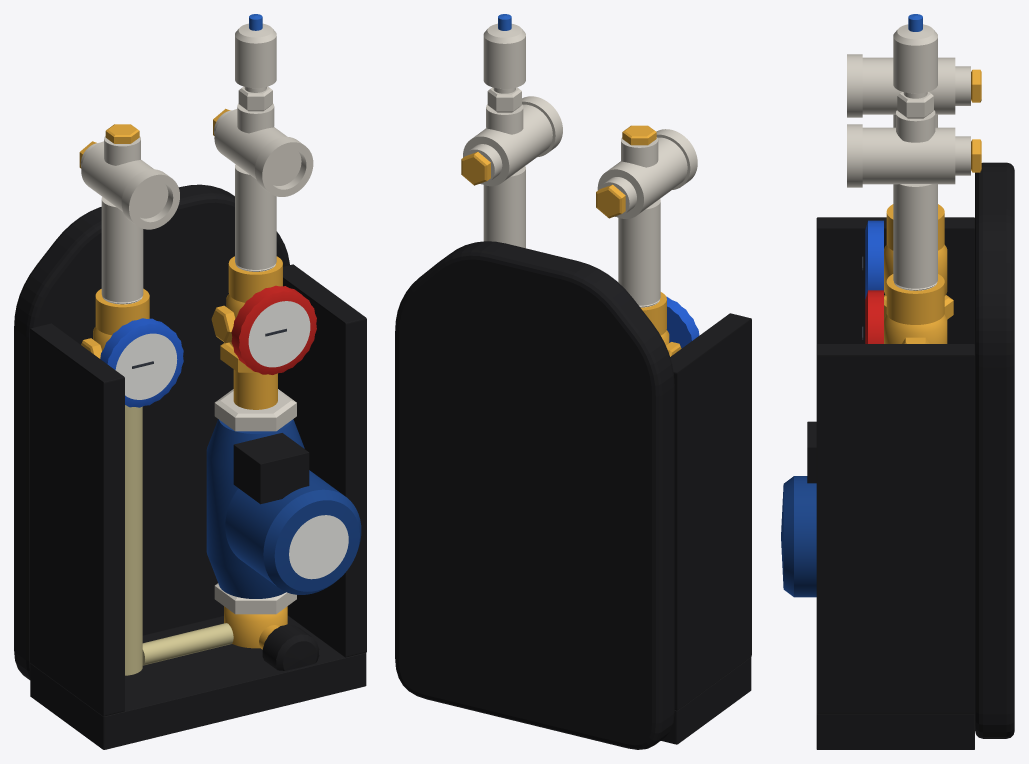
Rendered from pump_group_sdg0002_25.glb.
3 views of the same model, side by side, from view 1: azimuth 30°, elevation 25°; view 2: azimuth 150°, elevation 25°; view 3: azimuth 270°, elevation 25° (orthographic). The views are drawn at different scales.
Parts seen in each view (by area): view 1: кожух задняя, кожух щека, кожух щека.001, кожух дно, мотор, корпус насоса, вставка обратки, клеммная коробка, патрубок, патрубок.001, шкала.001, шкала (+20 smaller); view 2: кожух задняя, кожух щека, патрубок, корпус МУ.001, корпус МУ, кожух дно, патрубок.001, воздухоотводчик, кольцо термометра, отвод вверх.001, отвод вверх, устье 1 ВР (+5 smaller); view 3: кожух щека.001, кожух задняя, кожух щека, кожух дно, корпус МУ.001, патрубок.001, мотор, корпус МУ, воздухоотводчик, гнездо Rp1.001, кольцо термометра, корпус крана.001 (+10 smaller).
Part boxes in pixels (x1,y1,x2,y2): кожух задняя: (14,184,289,679); кожух щека: (30,323,124,716); кожух щека.001: (278,264,366,657); кожух дно: (30,616,366,749); мотор: (225,470,361,594); корпус насоса: (206,419,304,598); вставка обратки: (125,405,142,675); клеммная коробка: (233,433,309,504); патрубок: (101,197,143,302); патрубок.001: (235,164,276,269); шкала.001: (248,301,310,367); шкала: (115,333,177,399); кожух задняя: (395,241,674,749); кожух щека: (670,313,751,710); патрубок: (618,199,660,305); корпус МУ.001: (463,104,552,186); корпус МУ: (597,137,687,218); кожух дно: (661,657,751,744); патрубок.001: (483,166,525,248); воздухоотводчик: (483,23,525,93); кольцо термометра: (666,296,699,348); отвод вверх.001: (486,104,523,134); отвод вверх: (621,137,658,167); устье 1 ВР: (656,129,697,189); кожух щека.001: (816,344,974,714); кожух задняя: (975,162,1014,738); кожух щека: (816,217,974,344); кожух дно: (816,714,974,749); корпус МУ.001: (862,127,955,184); патрубок.001: (893,184,937,288); мотор: (781,476,816,597); корпус МУ: (862,57,955,114); воздухоотводчик: (893,24,937,98); гнездо Rp1.001: (886,274,944,324); кольцо термометра: (865,220,883,298); корпус крана.001: (884,314,947,343).
Bounding box in the file's own units: 0.247 × 0.601 × 0.1775.
